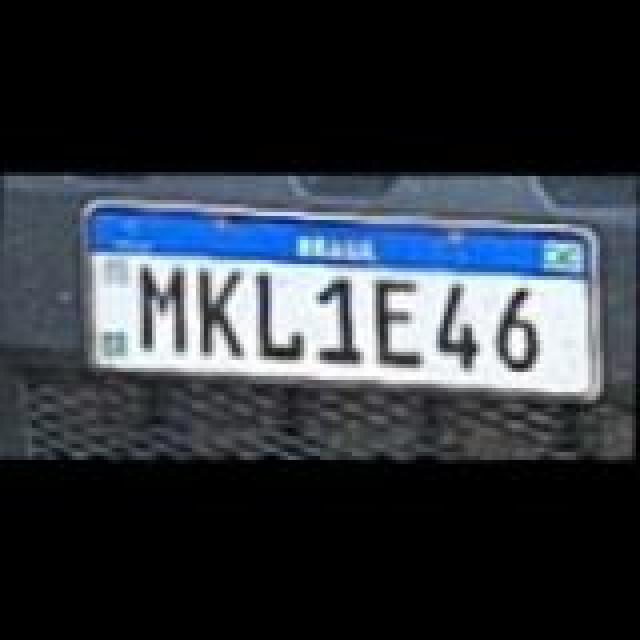1: (320, 276, 364, 364)
4: (440, 278, 484, 370)
6: (498, 286, 546, 374)
E: (378, 276, 426, 368)
K: (202, 268, 250, 356)
L: (260, 272, 304, 360)
M: (142, 264, 190, 352)
